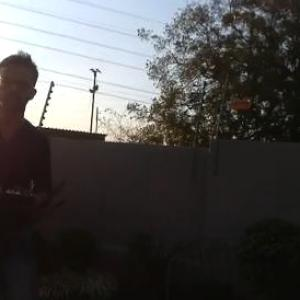follow: (0, 51, 83, 299)
